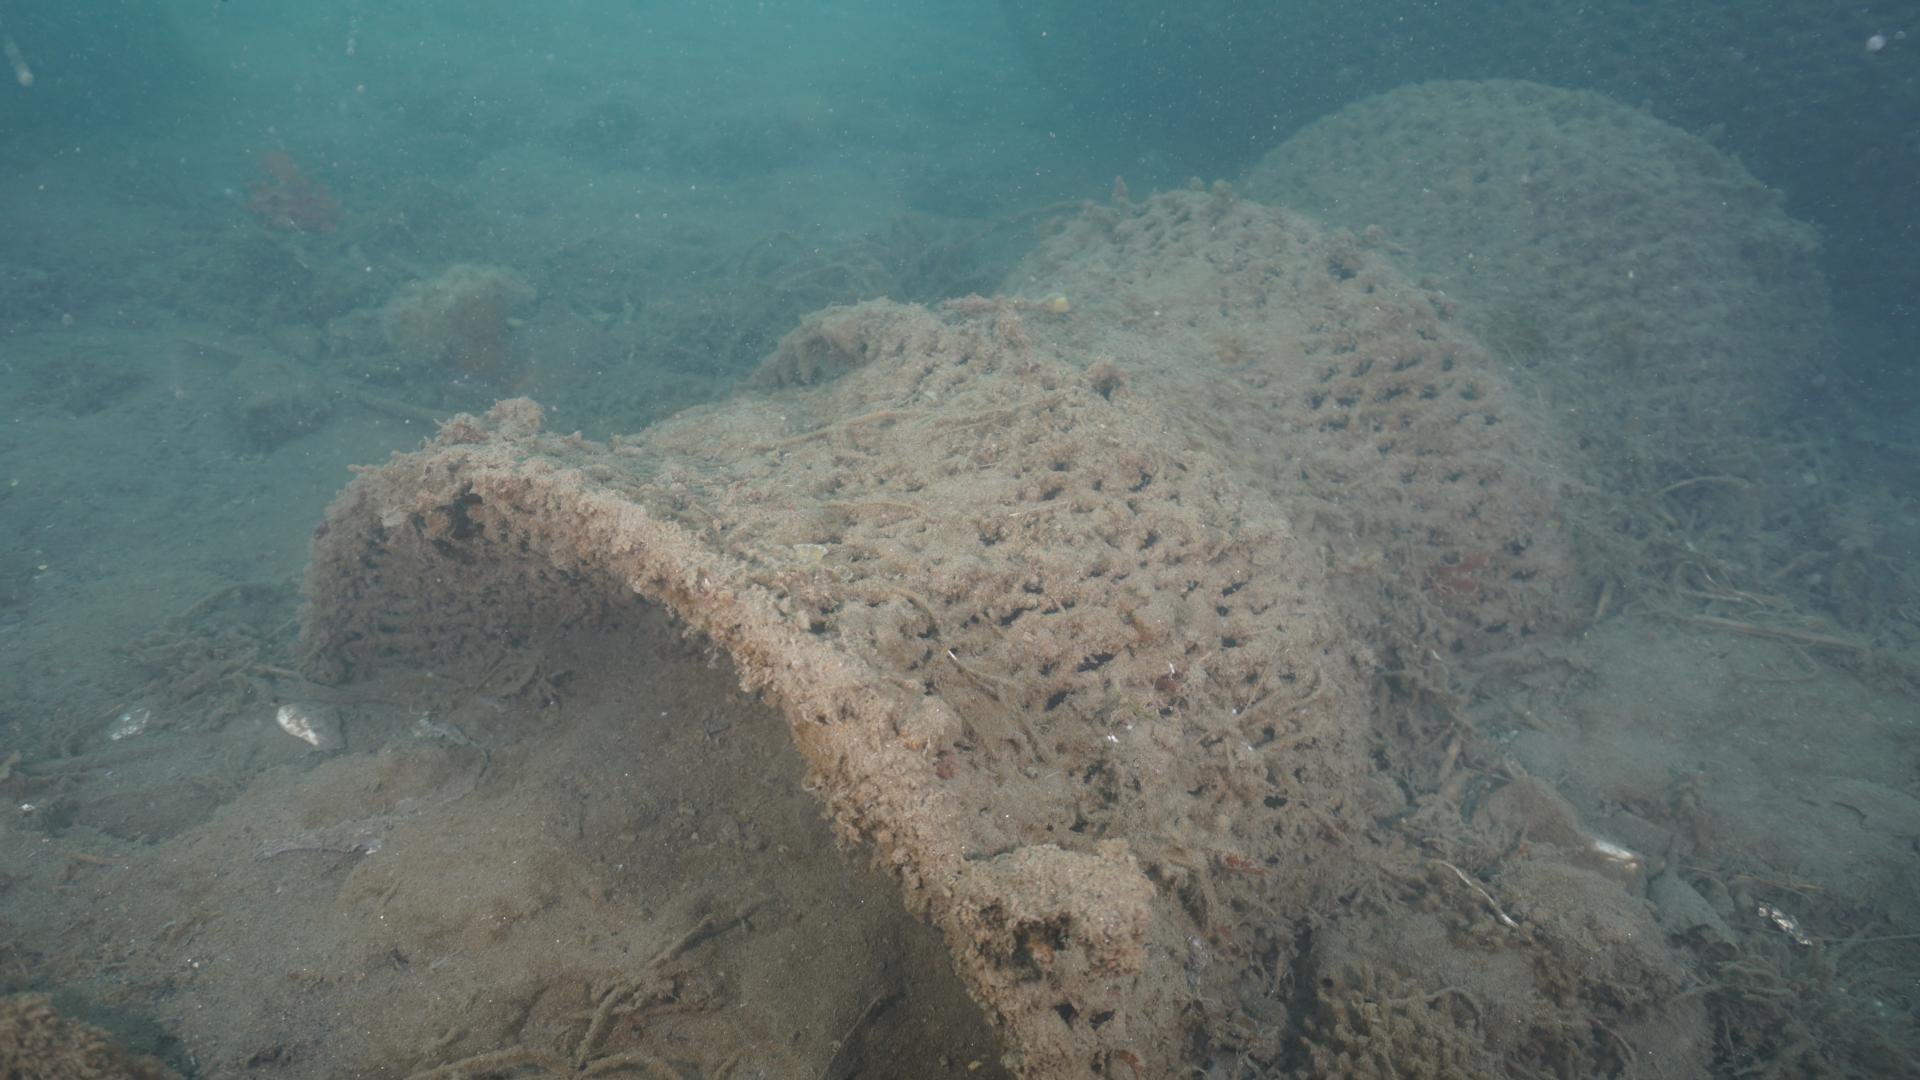spring fish trap: (295, 70, 1838, 1080)
